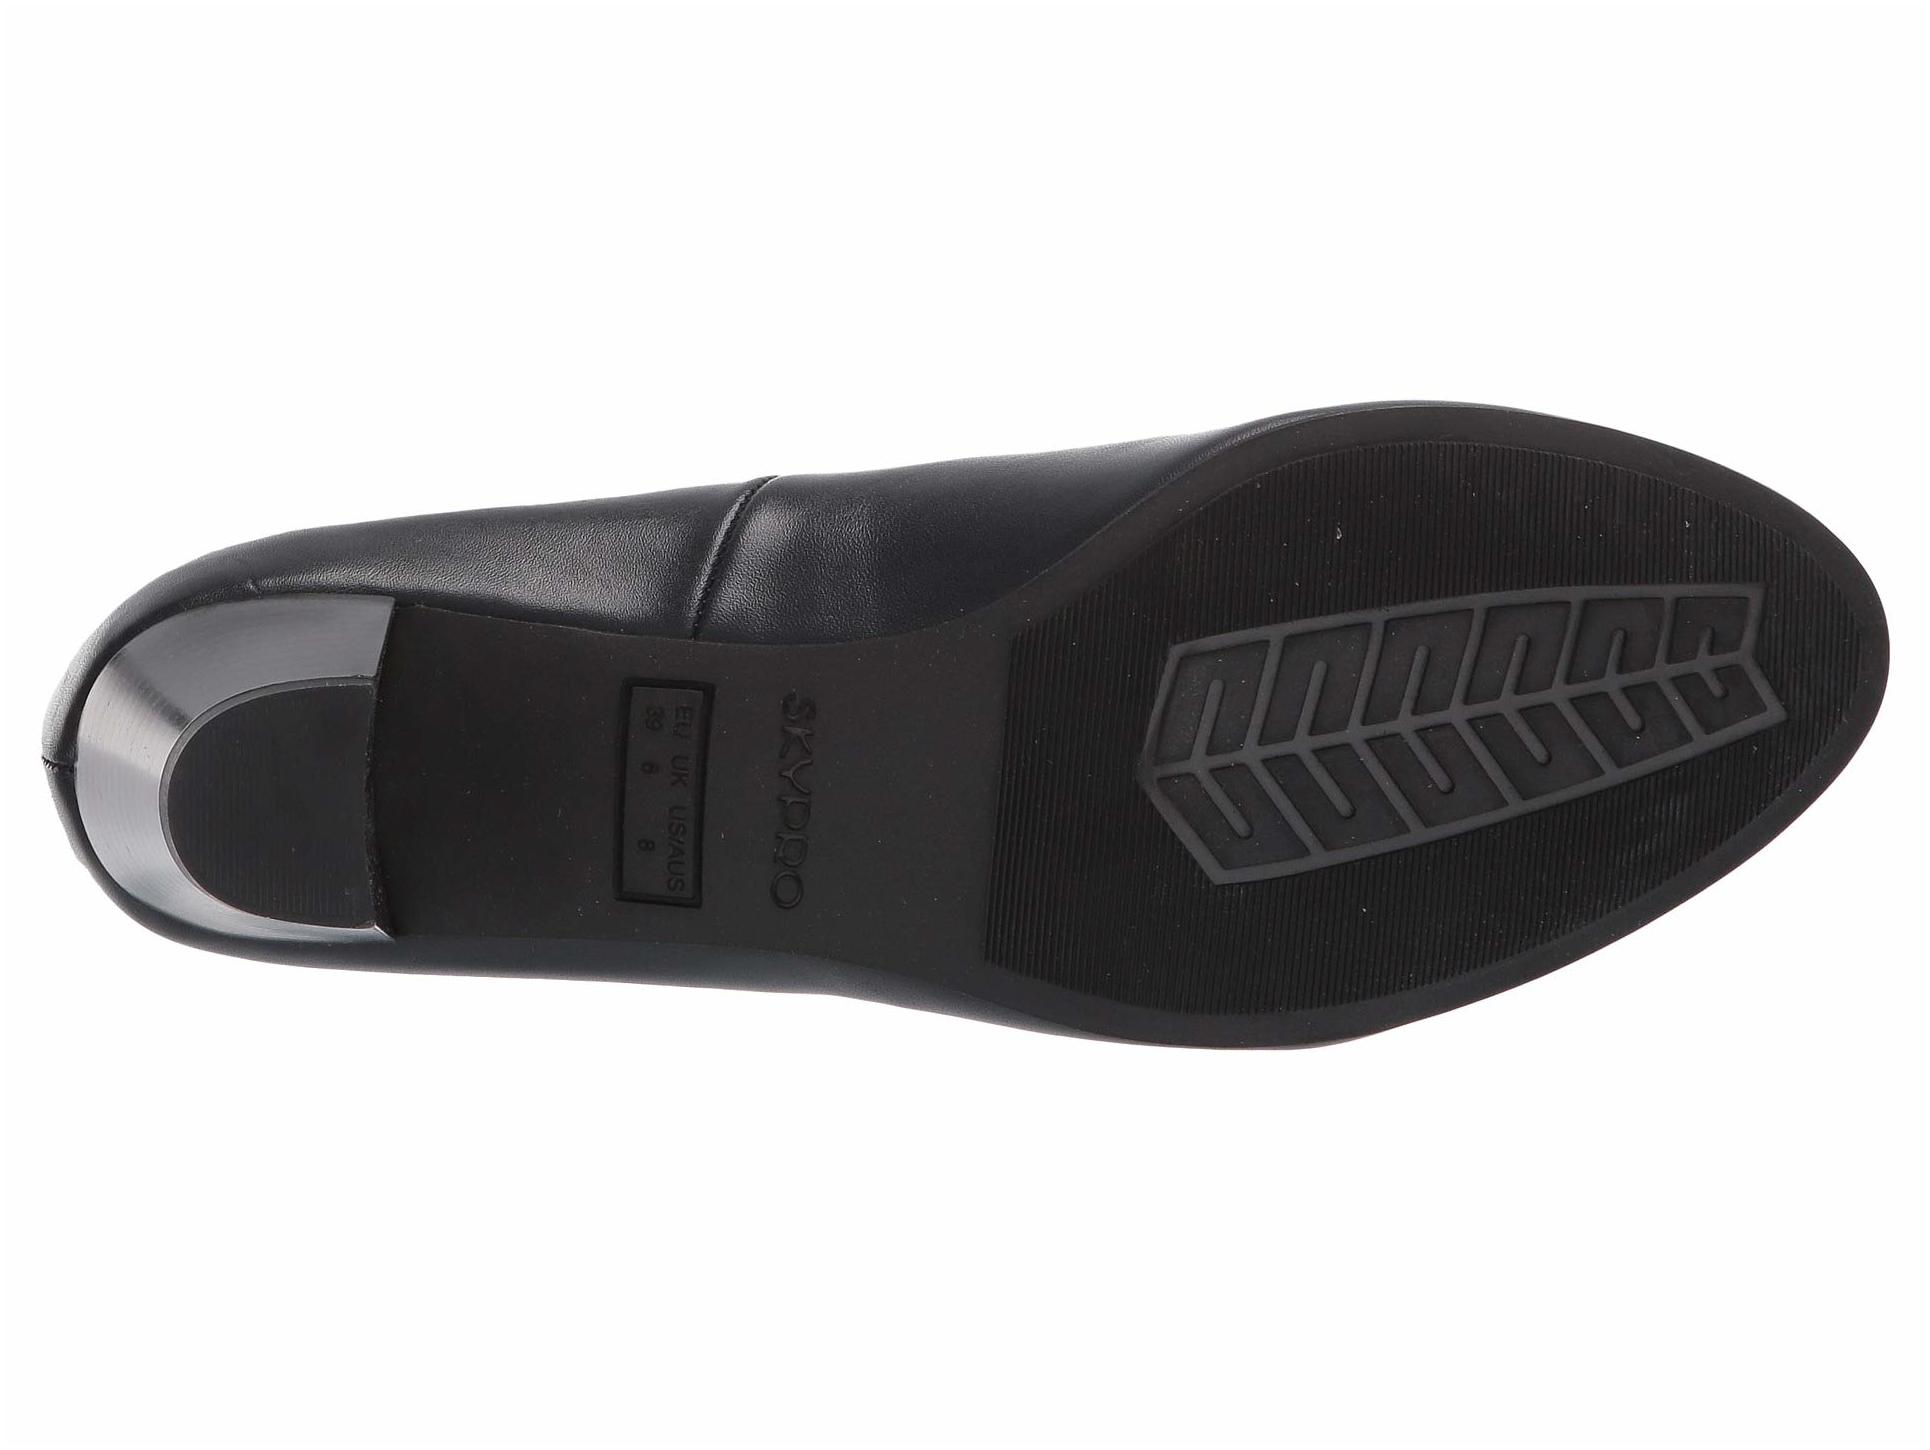chevron: (1142, 594, 1507, 1001)
line: (1142, 594, 1507, 1001)
